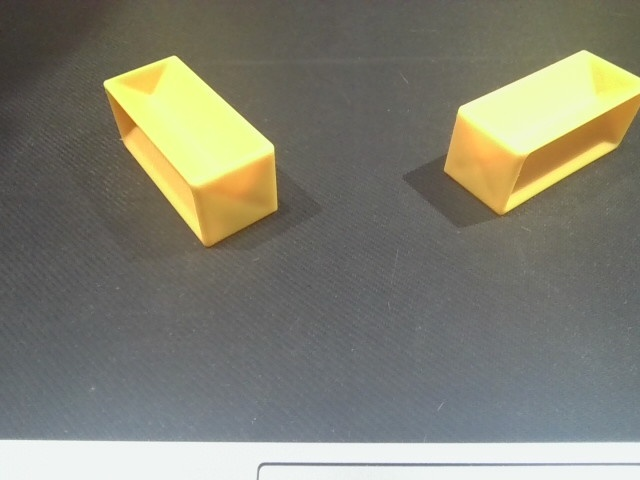YellowSample: (101, 48, 284, 251), (438, 43, 640, 220)
